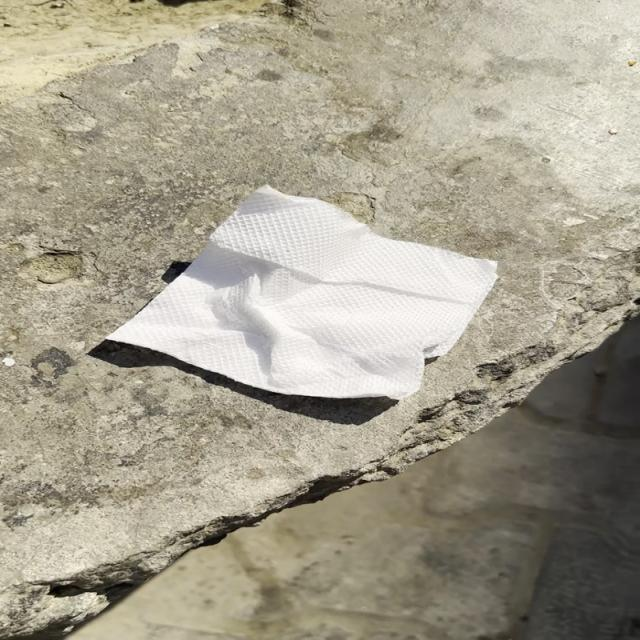tissue: (94, 180, 511, 410)
